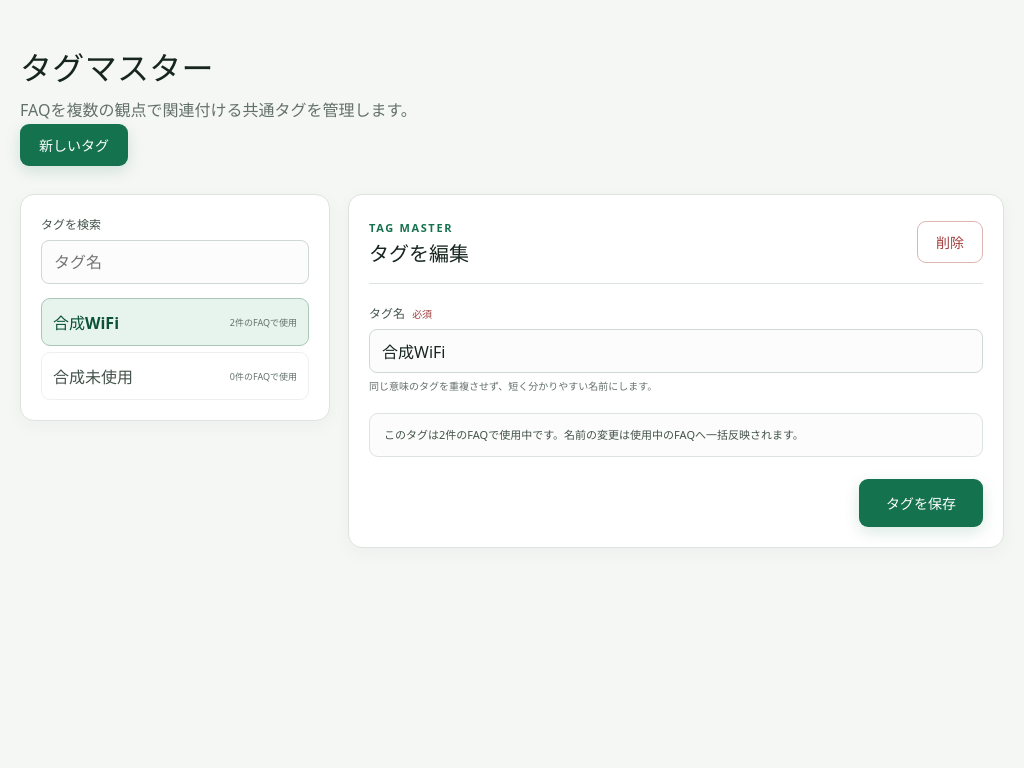
Test: TagsPage C# migration contracts › keeps a used tag visible when deletion is refused
The image size is (1024, 768).
Expected: the field showing "合成WiFi" is shown, [369,329,983,373]
Step 1. Click the button "削除" → x=950, y=242, box [917,221,983,263]
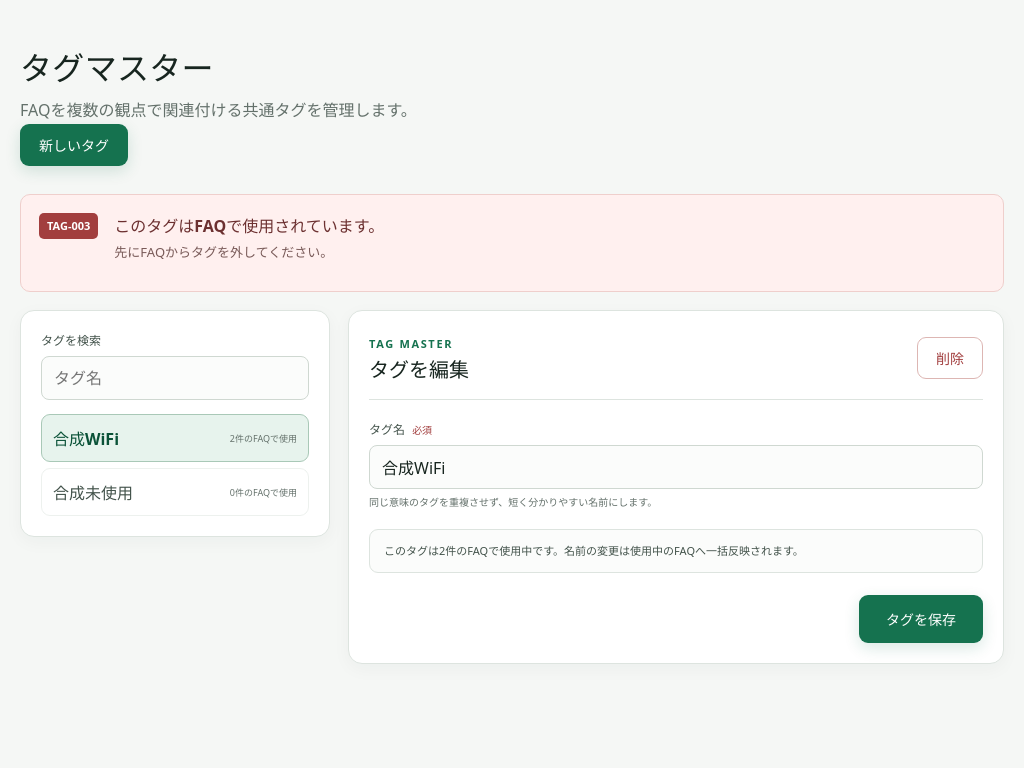
Expected: the button "合成WiFi 2件のFAQで使用" is shown, [41,414,309,462]
Result: the message shows "TAG-003" at [47,218,90,233]
